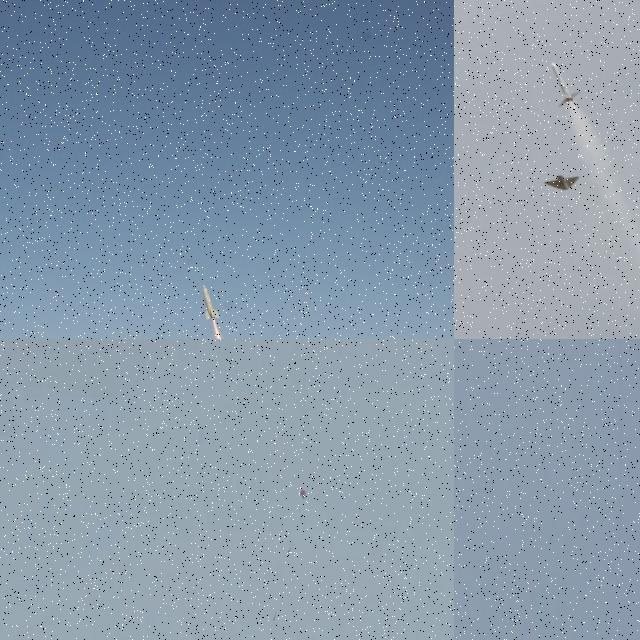Rocket: (550, 62, 583, 108), (202, 284, 221, 320), (273, 612, 277, 621)
